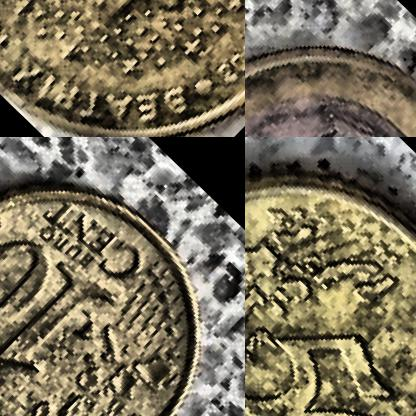coin: (0, 137, 244, 415), (245, 137, 415, 415), (0, 0, 244, 136), (245, 0, 415, 136)
